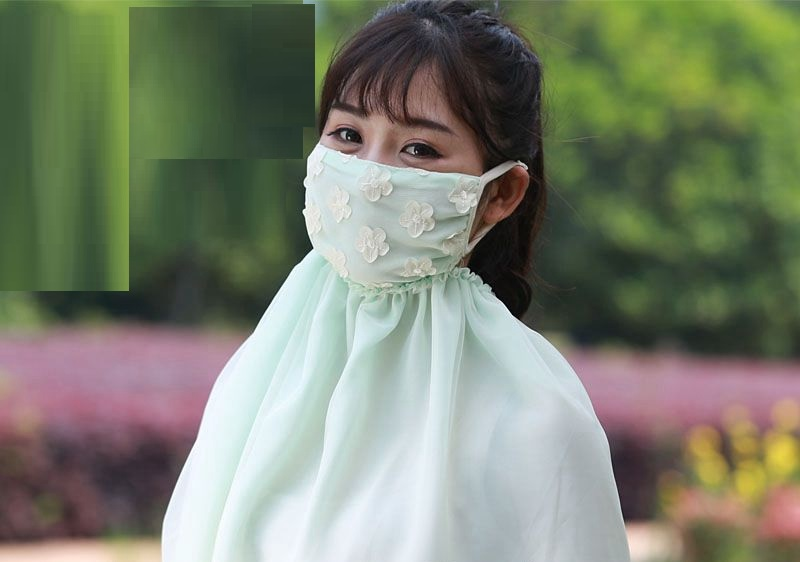face_mask: (305, 64, 480, 287)
